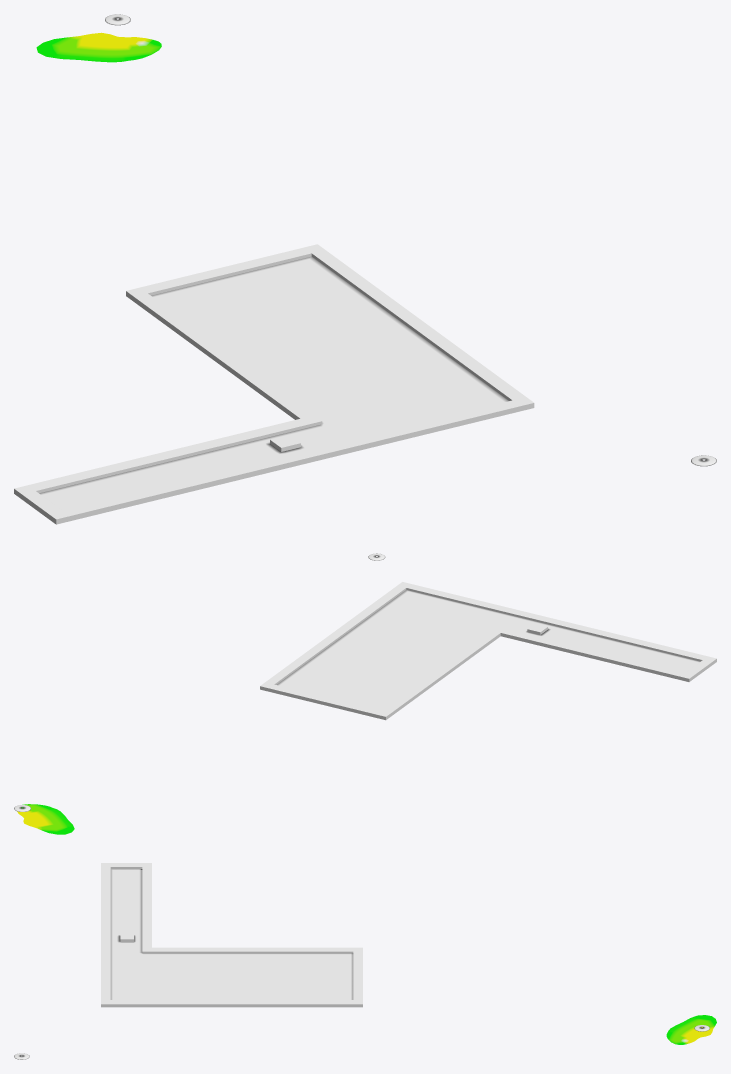
The picture shows the model from 3 angles, top to bottom: view 1: azimuth 30°, elevation 25°; view 2: azimuth 150°, elevation 25°; view 3: azimuth 270°, elevation 25°; orthographic projection. The views are drawn at different scales.
Parts seen in each view (by area): view 1: test; view 2: test; view 3: test.
Part boxes in pixels (x1,y1,x2,y2): test: [14, 14, 716, 524]; test: [14, 553, 716, 834]; test: [14, 863, 716, 1059].
Bounding box in the file's own units: 3005 × 5094 × 178.
